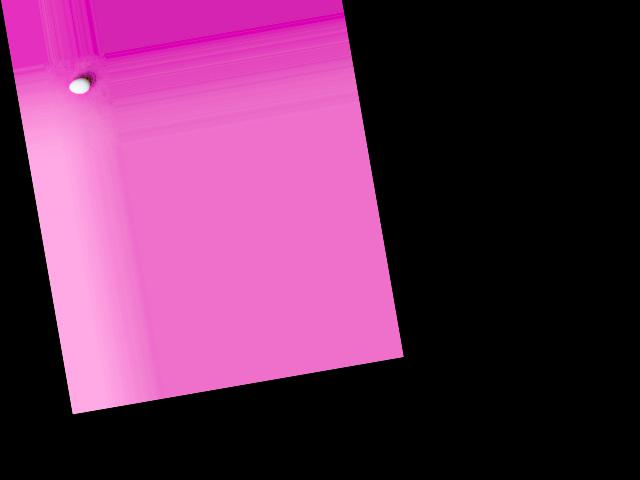egg: (68, 77, 91, 95)
